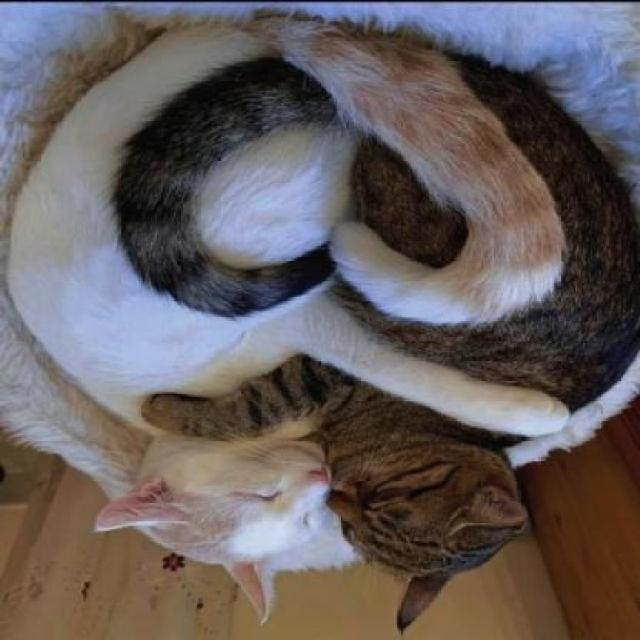cat: (0, 0, 329, 637), (332, 28, 640, 637)
